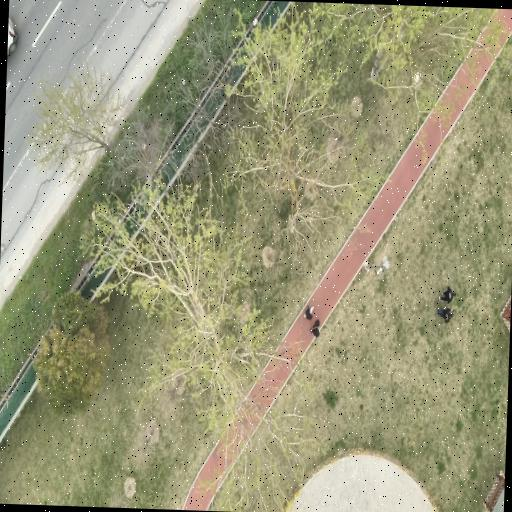car: (7, 17, 17, 54)
person: (439, 286, 456, 302), (438, 307, 453, 322), (311, 319, 319, 337), (304, 305, 314, 319)
